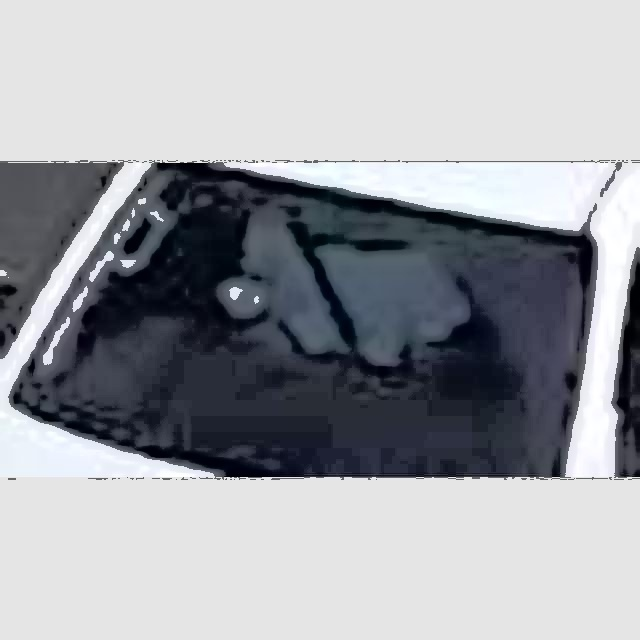pakai: (219, 199, 468, 394)
